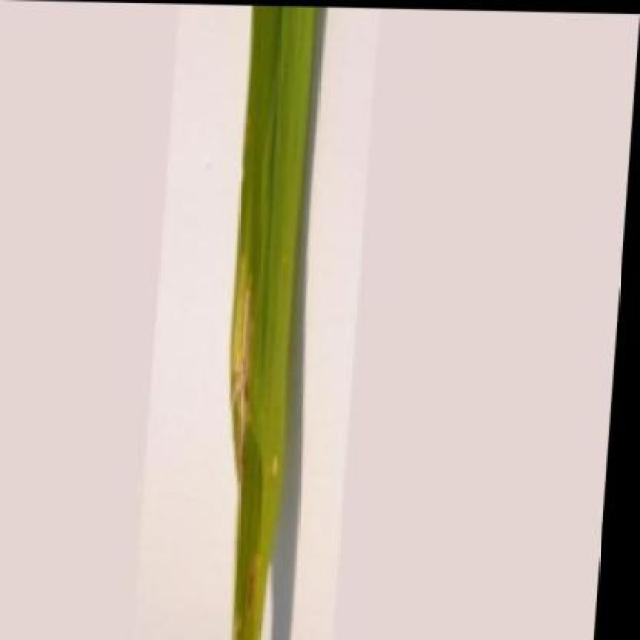Brown_Spot: (212, 3, 326, 640)
